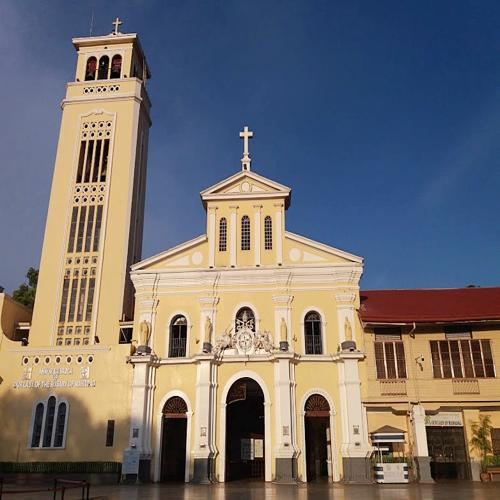Manaoag Church: (17, 10, 373, 490)
